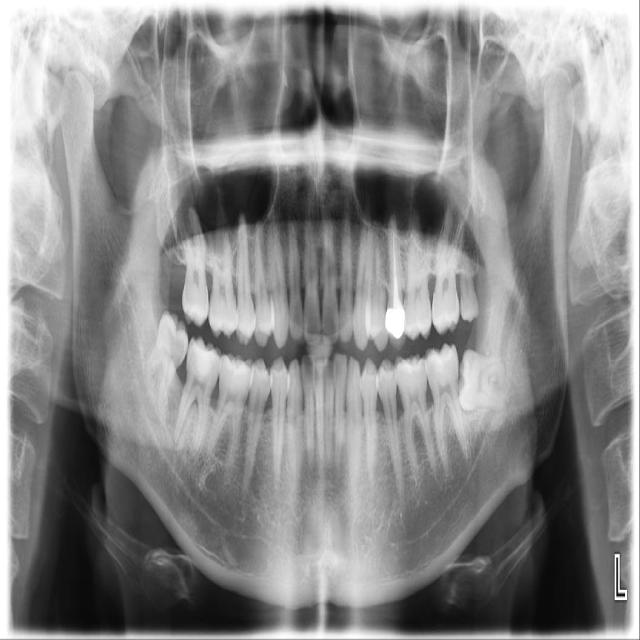Caries: (169, 330, 185, 366)
Crown: (385, 297, 406, 349)
Filling: (191, 338, 215, 377)
Root Canal Treatment: (391, 223, 399, 293)
impacted tooth: (141, 310, 191, 421), (458, 347, 515, 414)
